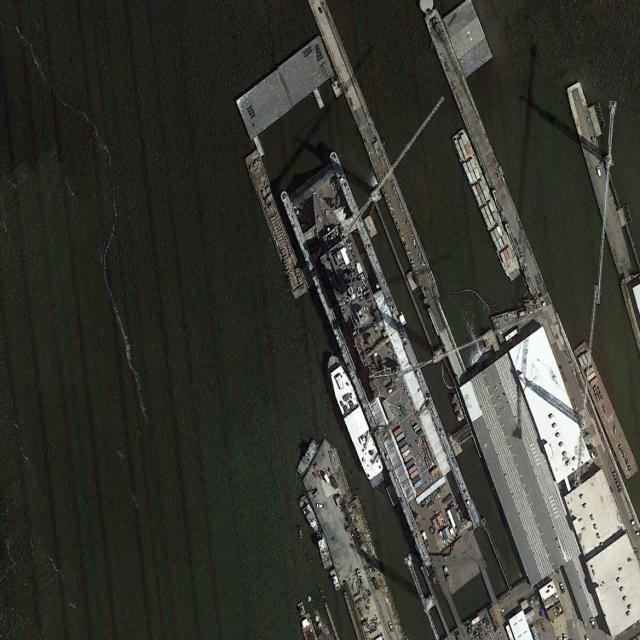Container Ship: (449, 124, 524, 287)
Landing: (297, 179, 442, 498)
Other Ship: (297, 493, 322, 535), (295, 438, 320, 478), (315, 531, 333, 571), (328, 567, 342, 593)
Other Warship: (324, 348, 385, 482)
